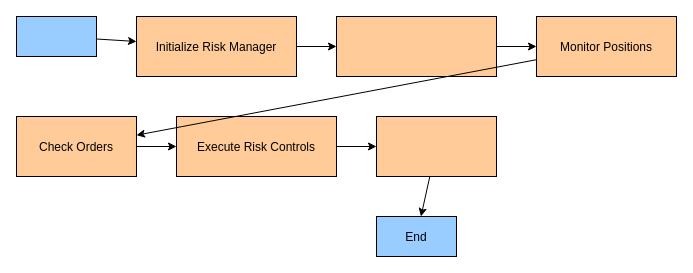
Some shapes in this 693 by 273 pixel diagram are drawn without their labels. Each missing label, with the centre of its shape:
"Generate Reports" goes at [436,146].
"Set Risk Parameters" goes at [416,46].
"Start" goes at [56,36].
